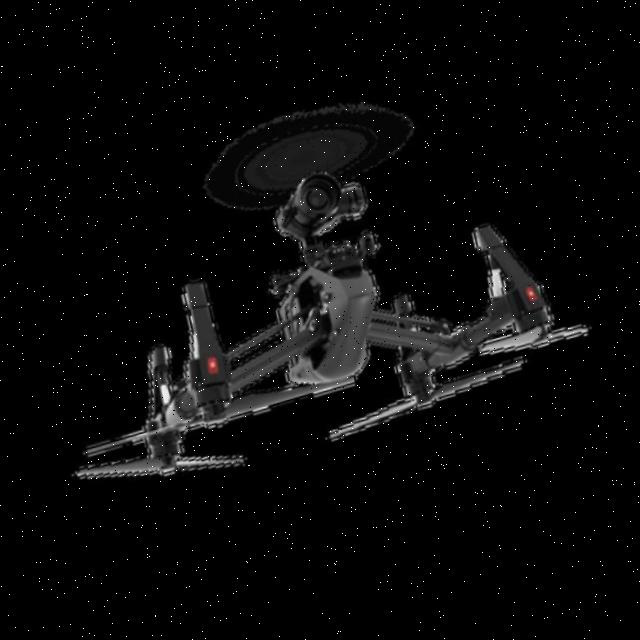drones: (16, 89, 626, 575)
